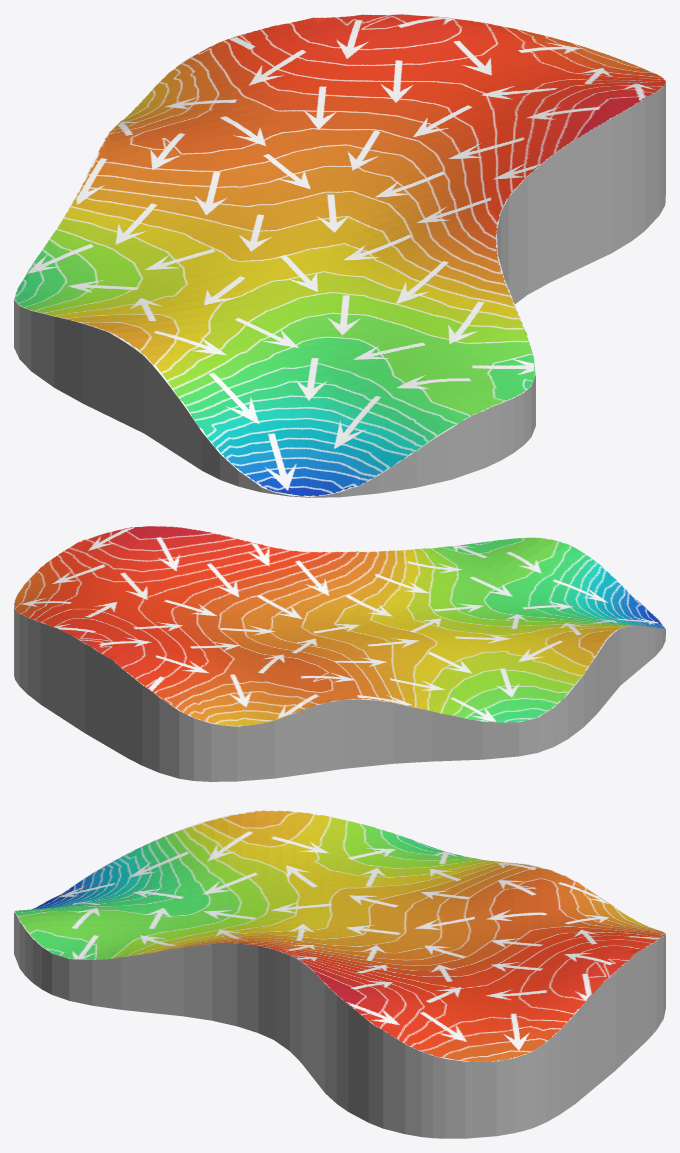
The picture shows the model from 3 angles, top to bottom: view 1: azimuth 30°, elevation 25°; view 2: azimuth 150°, elevation 25°; view 3: azimuth 270°, elevation 25°; orthographic projection. The views are drawn at different scales.
Bounding box in the file's own units: 4.38 × 0.8404 × 4.54.
2 materials, 1 textured.
